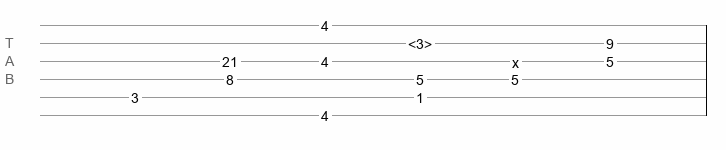1: (416, 90, 424, 100)
21: (222, 54, 238, 64)
3: (131, 90, 139, 100)
4: (321, 18, 329, 28), (321, 108, 329, 118), (321, 54, 329, 64)
5: (416, 72, 424, 82), (511, 72, 519, 82), (606, 54, 614, 64)
8: (226, 72, 234, 82)
9: (606, 36, 614, 46)
harmonic: (408, 36, 432, 46)
x: (512, 55, 519, 63)
